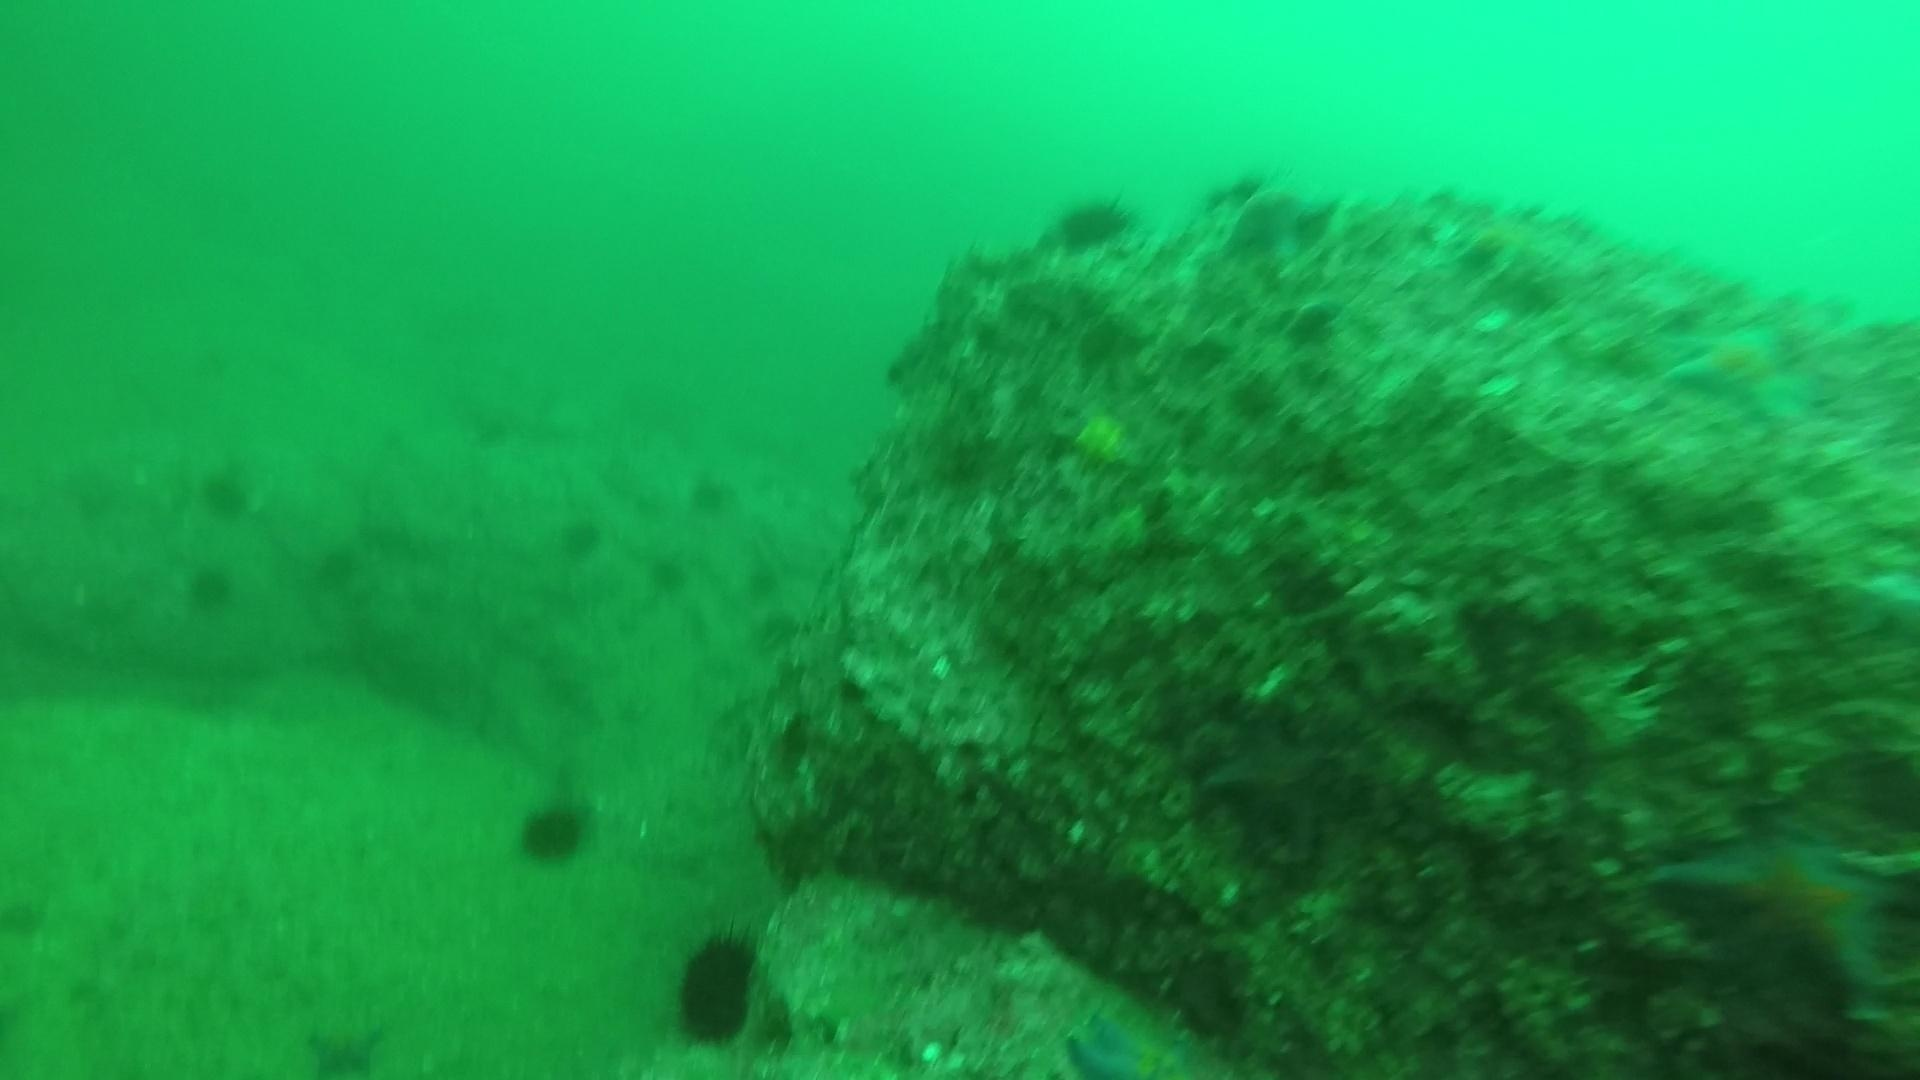echinus: (665, 930, 767, 1052), (512, 791, 597, 869), (1047, 187, 1137, 258), (195, 462, 257, 524), (181, 559, 240, 617), (551, 510, 607, 564), (684, 469, 738, 520), (645, 551, 690, 597)
starfish: (1644, 806, 1917, 1011), (1665, 320, 1826, 430), (1218, 173, 1338, 262), (1060, 1005, 1204, 1073), (301, 1013, 390, 1075)
